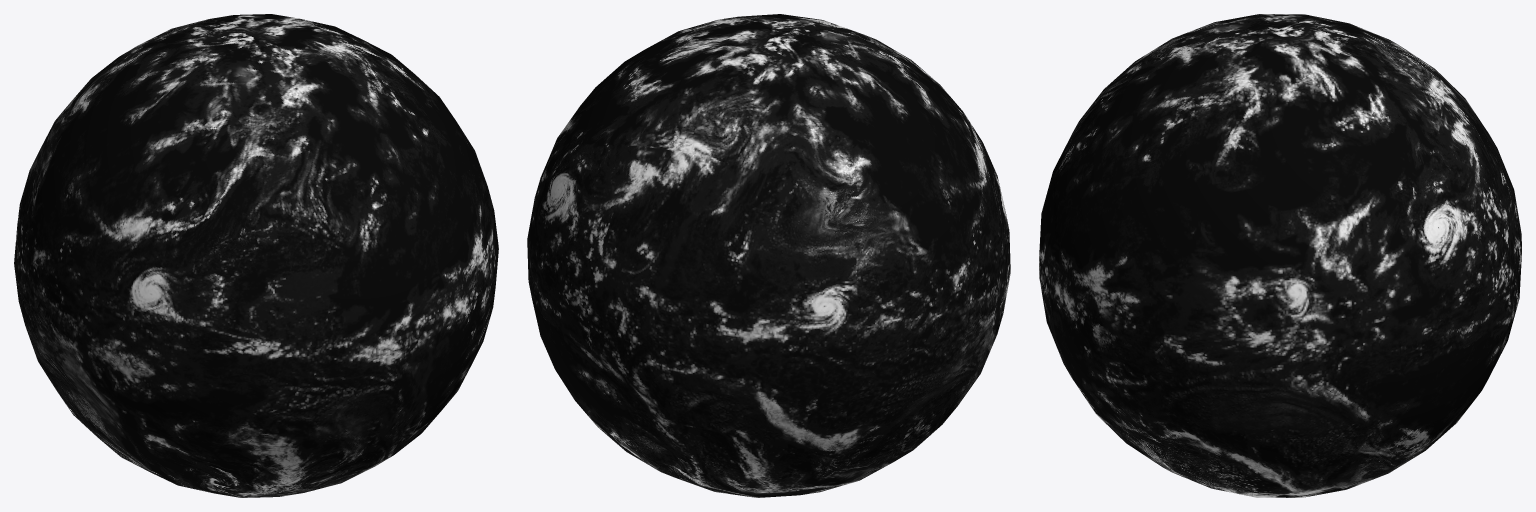
File: Earth.fbx
The picture shows the model from 3 angles, left to right: view 1: azimuth 30°, elevation 25°; view 2: azimuth 150°, elevation 25°; view 3: azimuth 270°, elevation 25°; orthographic projection.
Visible parts, largest first — view 1: Earth_grp; view 2: Earth_grp; view 3: Earth_grp.
Part boxes in pixels (left/top/right/bottom): Earth_grp: left=14, top=14, right=498, bottom=497; Earth_grp: left=527, top=14, right=1010, bottom=497; Earth_grp: left=1039, top=14, right=1521, bottom=497.
Size of the model in its own units: 635 by 637 by 635.
